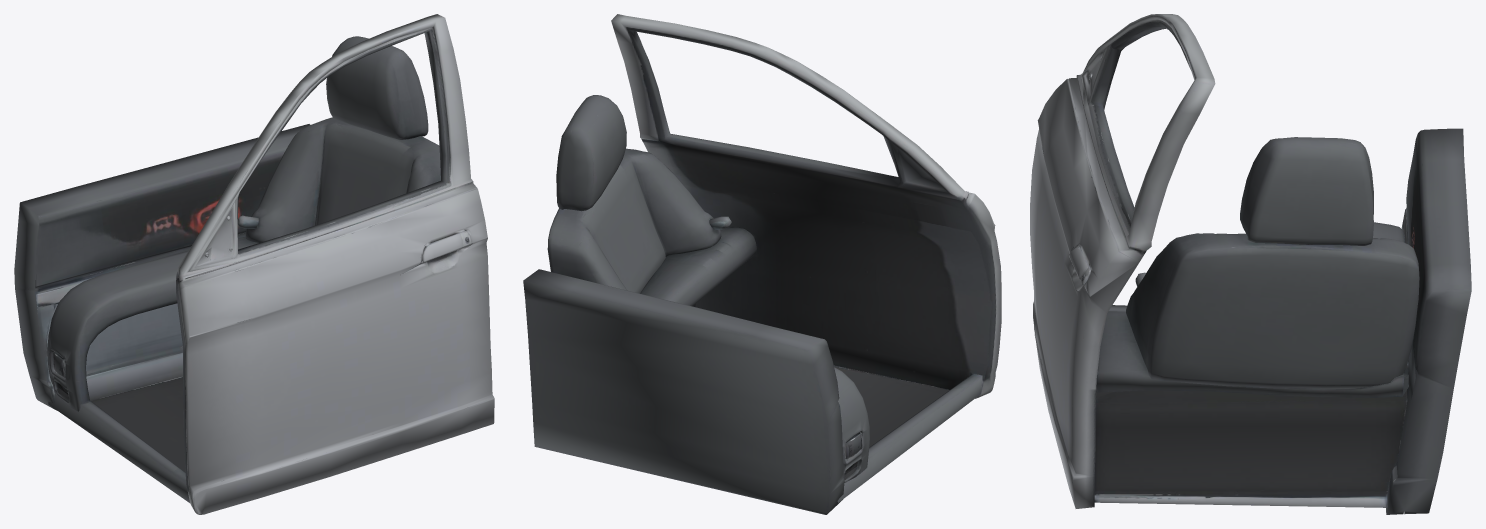
The model's file is original_glb.glb.
3 renders of one model, left to right at view 1: azimuth 30°, elevation 25°; view 2: azimuth 150°, elevation 25°; view 3: azimuth 270°, elevation 25°, orthographic. The views are drawn at different scales.
Visible parts, largest first — view 1: left front door; view 2: left front door; view 3: left front door.
Boxes of the visible parts, x1,y1,x2,y2 form: left front door: (14,14,494,514); left front door: (523,14,1001,514); left front door: (1030,14,1471,514).
Size of the model in its own units: 0.9355 by 0.998 by 0.9082.
Materials: 1 (1 with a texture image).
